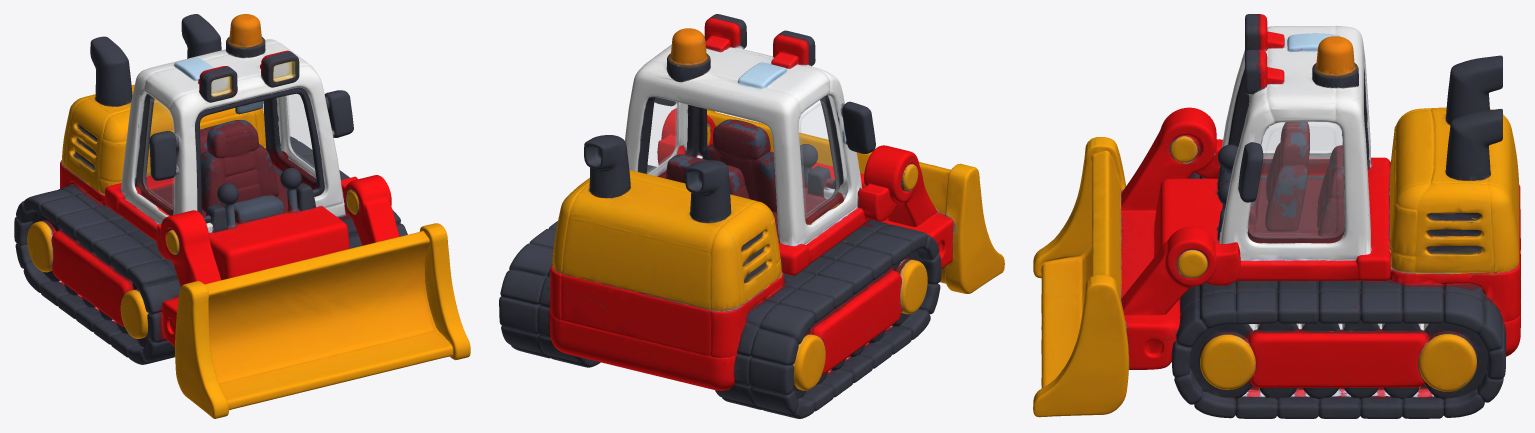
Rendered from dozer-red.glb.
3 renders of one model, left to right at view 1: azimuth 30°, elevation 25°; view 2: azimuth 150°, elevation 25°; view 3: azimuth 270°, elevation 25°, orthographic. The views are drawn at different scales.
Parts seen in each view (by area): view 1: tripo_part_1, tripo_part_0, tripo_part_2, tripo_part_15, tripo_part_6, tripo_part_28, tripo_part_8, tripo_part_27, tripo_part_26, tripo_part_12, tripo_part_23, tripo_part_13 (+21 smaller); view 2: tripo_part_0, tripo_part_17, tripo_part_7, tripo_part_2, tripo_part_28, tripo_part_8, tripo_part_27, tripo_part_71, tripo_part_12, tripo_part_6, tripo_part_23, tripo_part_44 (+29 smaller); view 3: tripo_part_0, tripo_part_19, tripo_part_18, tripo_part_1, tripo_part_26, tripo_part_3, tripo_part_15, tripo_part_12, tripo_part_44, tripo_part_13, tripo_part_35, tripo_part_16 (+31 smaller).
Boxes of the visible parts, <box> form: tripo_part_1: <box>205,231,452,410</box>; tripo_part_0: <box>105,39,347,241</box>; tripo_part_2: <box>40,196,349,279</box>; tripo_part_15: <box>151,167,348,266</box>; tripo_part_6: <box>200,120,278,211</box>; tripo_part_28: <box>175,281,228,418</box>; tripo_part_8: <box>23,263,174,364</box>; tripo_part_27: <box>51,229,133,333</box>; tripo_part_26: <box>419,223,470,360</box>; tripo_part_12: <box>156,210,221,286</box>; tripo_part_23: <box>65,97,130,189</box>; tripo_part_13: <box>344,175,399,245</box>; tripo_part_0: <box>625,45,870,275</box>; tripo_part_17: <box>636,209,748,390</box>; tripo_part_7: <box>549,296,702,385</box>; tripo_part_2: <box>778,192,911,324</box>; tripo_part_28: <box>944,163,1004,293</box>; tripo_part_8: <box>760,238,941,418</box>; tripo_part_27: <box>810,269,901,375</box>; tripo_part_71: <box>559,251,653,323</box>; tripo_part_12: <box>857,145,937,227</box>; tripo_part_6: <box>702,119,777,212</box>; tripo_part_23: <box>714,201,776,304</box>; tripo_part_44: <box>550,191,661,319</box>; tripo_part_0: <box>1219,25,1391,281</box>; tripo_part_19: <box>1359,144,1502,324</box>; tripo_part_18: <box>1248,321,1428,387</box>; tripo_part_1: <box>1041,151,1121,388</box>; tripo_part_26: <box>1033,275,1129,417</box>; tripo_part_3: <box>1174,363,1484,418</box>; tripo_part_15: <box>1159,175,1327,249</box>; tripo_part_12: <box>1120,107,1222,210</box>; tripo_part_44: <box>1458,143,1520,321</box>; tripo_part_13: <box>1121,226,1216,315</box>; tripo_part_35: <box>1418,321,1487,399</box>; tripo_part_16: <box>1190,324,1255,399</box>.
Bounding box in the file's own units: 1.73 × 1.72 × 2.35.
90 materials, 86 textured.
